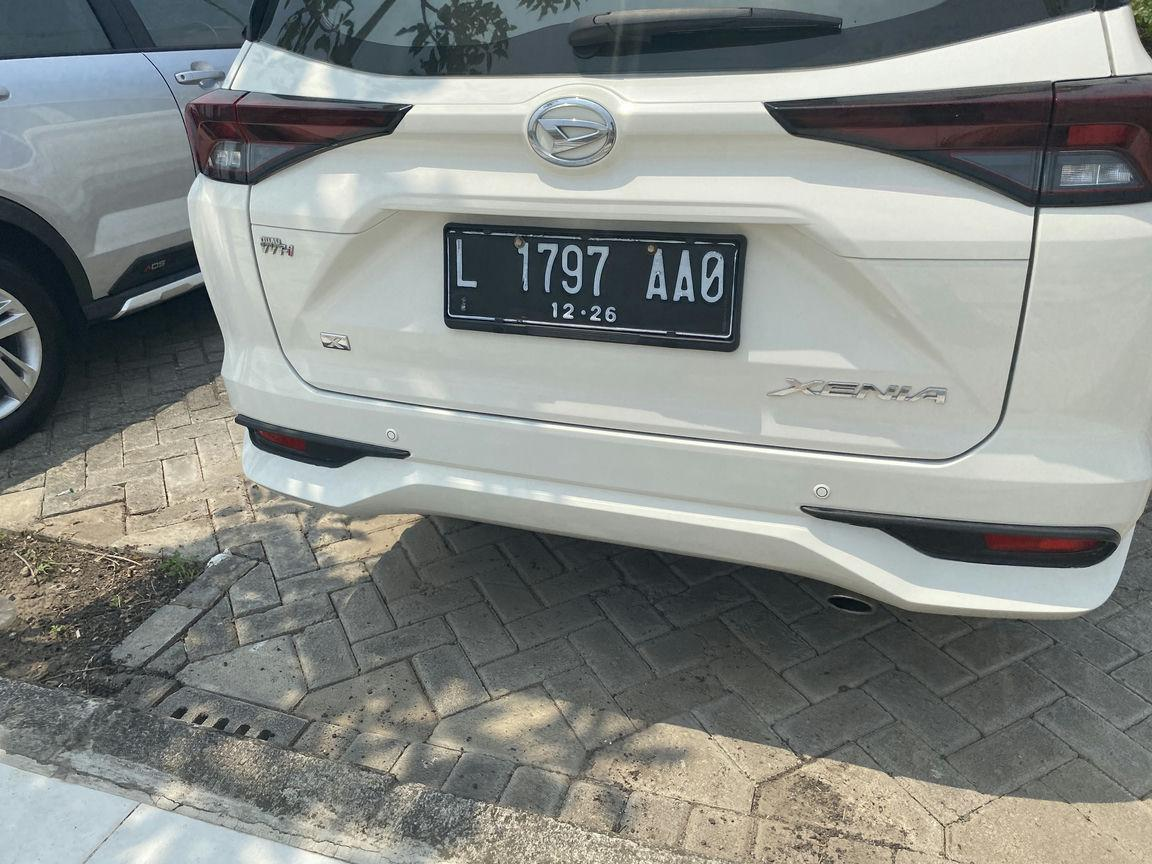plat: (446, 226, 745, 351)
